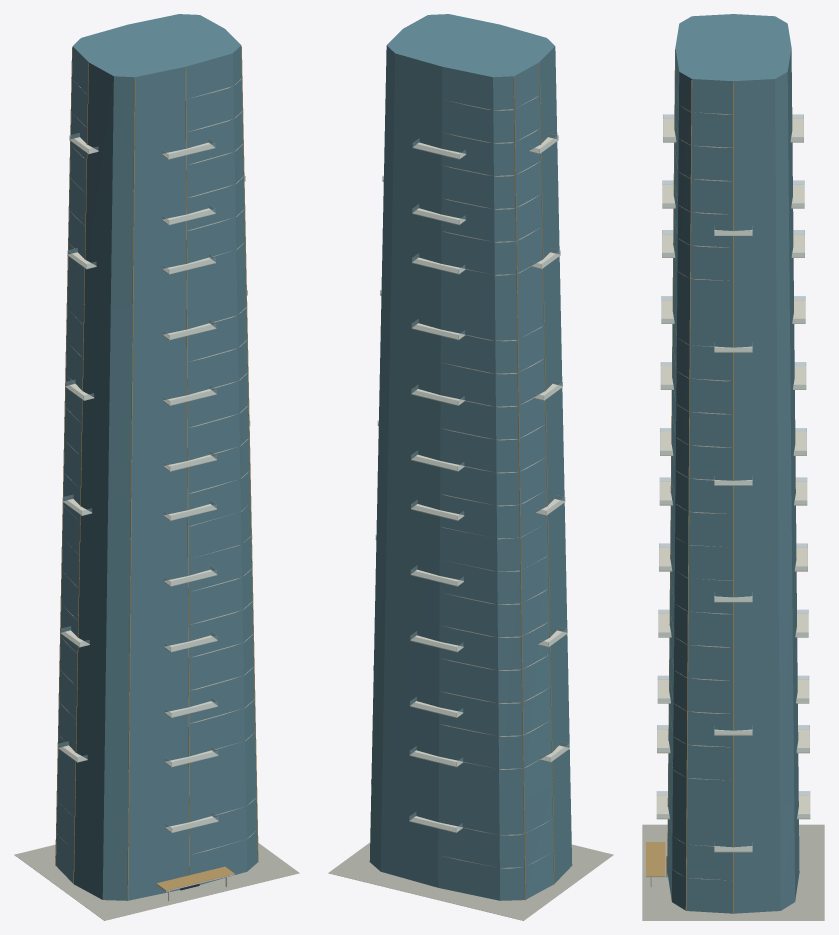
Rendered from hk-ultra-01.glb.
3 views of the same model, side by side, from view 1: azimuth 30°, elevation 25°; view 2: azimuth 150°, elevation 25°; view 3: azimuth 270°, elevation 25° (orthographic).
Parts seen in each view (by area): view 1: HK-ULTRA-01-glazing, HK-ULTRA-01-ivory, HK-ULTRA-01-gold, HK-ULTRA-01-stone, HK-ULTRA-01-glass; view 2: HK-ULTRA-01-glazing, HK-ULTRA-01-ivory, HK-ULTRA-01-stone, HK-ULTRA-01-glass, HK-ULTRA-01-gold; view 3: HK-ULTRA-01-glazing, HK-ULTRA-01-ivory, HK-ULTRA-01-stone, HK-ULTRA-01-glass, HK-ULTRA-01-gold.
Part boxes in pixels (x1,y1,x2,y2): HK-ULTRA-01-glazing: [56, 14, 257, 900]; HK-ULTRA-01-ivory: [57, 78, 255, 901]; HK-ULTRA-01-gold: [55, 46, 258, 900]; HK-ULTRA-01-stone: [14, 843, 299, 920]; HK-ULTRA-01-glass: [58, 133, 252, 831]; HK-ULTRA-01-glazing: [369, 14, 572, 900]; HK-ULTRA-01-ivory: [373, 96, 569, 868]; HK-ULTRA-01-stone: [328, 842, 613, 920]; HK-ULTRA-01-glass: [371, 133, 569, 831]; HK-ULTRA-01-gold: [513, 63, 554, 900]; HK-ULTRA-01-glazing: [667, 14, 799, 913]; HK-ULTRA-01-ivory: [646, 89, 810, 887]; HK-ULTRA-01-stone: [642, 824, 824, 920]; HK-ULTRA-01-glass: [656, 114, 810, 850]; HK-ULTRA-01-gold: [646, 49, 733, 913].
Bounding box in the file's own units: 50 × 200 × 40.
